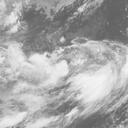cyclone: (33, 51, 103, 105)
